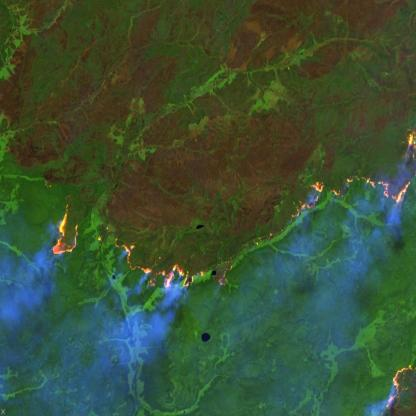fire: (51, 191, 237, 301), (285, 122, 416, 213), (383, 358, 416, 416)
